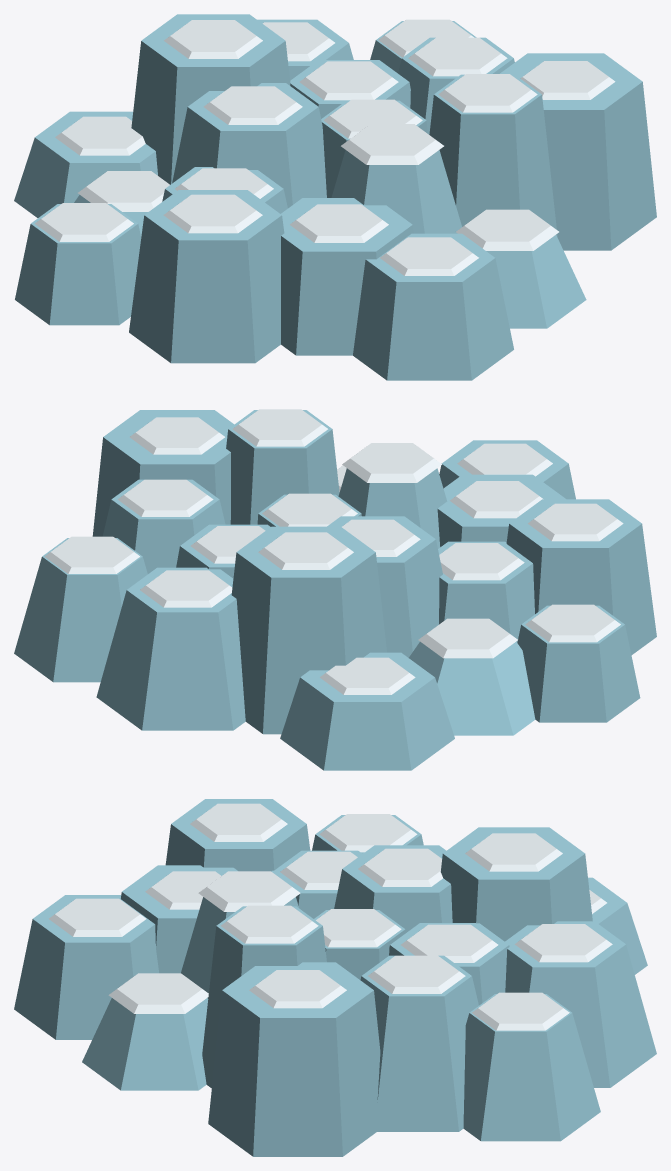
The model's file is FEATURE_GLACIER_v02.fbx.
3 views of the same model, one above another, from view 1: azimuth 30°, elevation 25°; view 2: azimuth 150°, elevation 25°; view 3: azimuth 270°, elevation 25° (orthographic). The views are drawn at different scales.
Visible parts, largest first — view 1: Glacial_serac.048, Glacial_serac.049, Glacial_serac.051, Glacial_serac.041, Glacial_serac.043, Glacial_serac.042, Glacial_serac.053, Glacial_serac.037, Glacial_serac.038, Glacial_serac.050, Glacial_serac.046, Snow_cap.068 (+23 smaller); view 2: Glacial_serac.042, Glacial_serac.047, Glacial_serac.050, Glacial_serac.048, Glacial_serac.052, Glacial_serac.053, Glacial_serac.045, Glacial_serac.049, Glacial_serac.041, Glacial_serac.037, Glacial_serac.040, Glacial_serac.044 (+21 smaller); view 3: Glacial_serac.049, Glacial_serac.052, Glacial_serac.044, Glacial_serac.051, Glacial_serac.047, Glacial_serac.042, Glacial_serac.046, Glacial_serac.048, Glacial_serac.041, Glacial_serac.037, Glacial_serac.043, Snow_cap.076 (+21 smaller).
Part boxes in pixels (bbox=[...]): Glacial_serac.048: bbox=[129, 190, 284, 363]; Glacial_serac.049: bbox=[500, 53, 656, 250]; Glacial_serac.051: bbox=[353, 233, 513, 380]; Glacial_serac.041: bbox=[429, 74, 557, 237]; Glacial_serac.043: bbox=[281, 198, 413, 355]; Glacial_serac.042: bbox=[131, 14, 290, 184]; Glacial_serac.053: bbox=[15, 204, 141, 325]; Glacial_serac.037: bbox=[172, 83, 326, 208]; Glacial_serac.038: bbox=[331, 150, 461, 233]; Glacial_serac.050: bbox=[14, 111, 157, 217]; Glacial_serac.046: bbox=[486, 235, 586, 328]; Snow_cap.068: bbox=[341, 124, 443, 164]; Glacial_serac.042: bbox=[231, 526, 386, 734]; Glacial_serac.047: bbox=[96, 567, 245, 730]; Glacial_serac.050: bbox=[280, 652, 454, 770]; Glacial_serac.048: bbox=[506, 499, 656, 655]; Glacial_serac.052: bbox=[14, 538, 147, 682]; Glacial_serac.053: bbox=[517, 605, 640, 722]; Glacial_serac.045: bbox=[409, 641, 535, 735]; Glacial_serac.049: bbox=[92, 410, 233, 536]; Glacial_serac.041: bbox=[226, 410, 339, 524]; Glacial_serac.037: bbox=[327, 516, 442, 657]; Glacial_serac.040: bbox=[438, 541, 534, 642]; Glacial_serac.044: bbox=[102, 479, 225, 573]; Glacial_serac.049: bbox=[208, 962, 380, 1156]; Glacial_serac.052: bbox=[463, 994, 600, 1141]; Glacial_serac.044: bbox=[360, 955, 478, 1131]; Glacial_serac.051: bbox=[14, 895, 158, 1039]; Glacial_serac.047: bbox=[505, 921, 656, 1087]; Glacial_serac.042: bbox=[440, 827, 592, 941]; Glacial_serac.046: bbox=[82, 998, 208, 1090]; Glacial_serac.048: bbox=[165, 799, 310, 871]; Glacial_serac.041: bbox=[202, 906, 326, 1088]; Glacial_serac.037: bbox=[334, 845, 452, 932]; Glacial_serac.043: bbox=[121, 865, 237, 973]; Snow_cap.076: bbox=[108, 973, 208, 1013].
Size of the model in its own units: 151 by 40.89 by 151.
